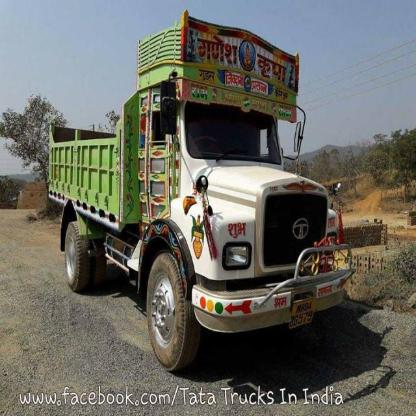truck: (47, 13, 344, 350)
